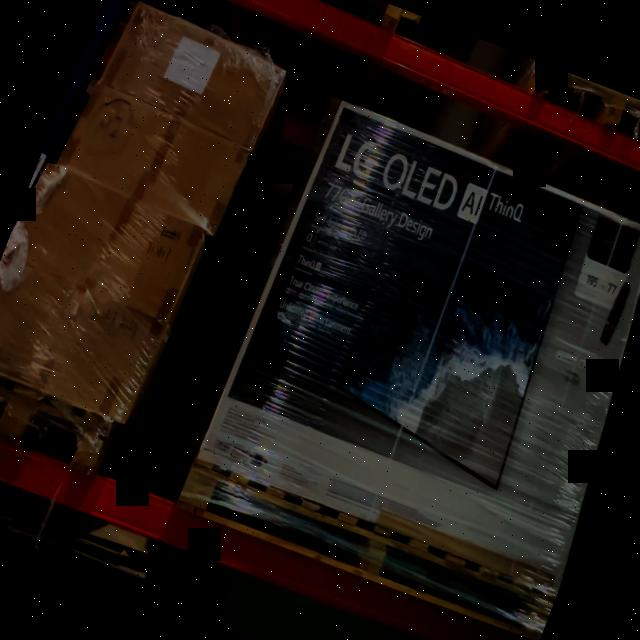box: (203, 108, 640, 583), (10, 171, 198, 319), (0, 257, 163, 423), (63, 82, 251, 224), (107, 13, 283, 143)
